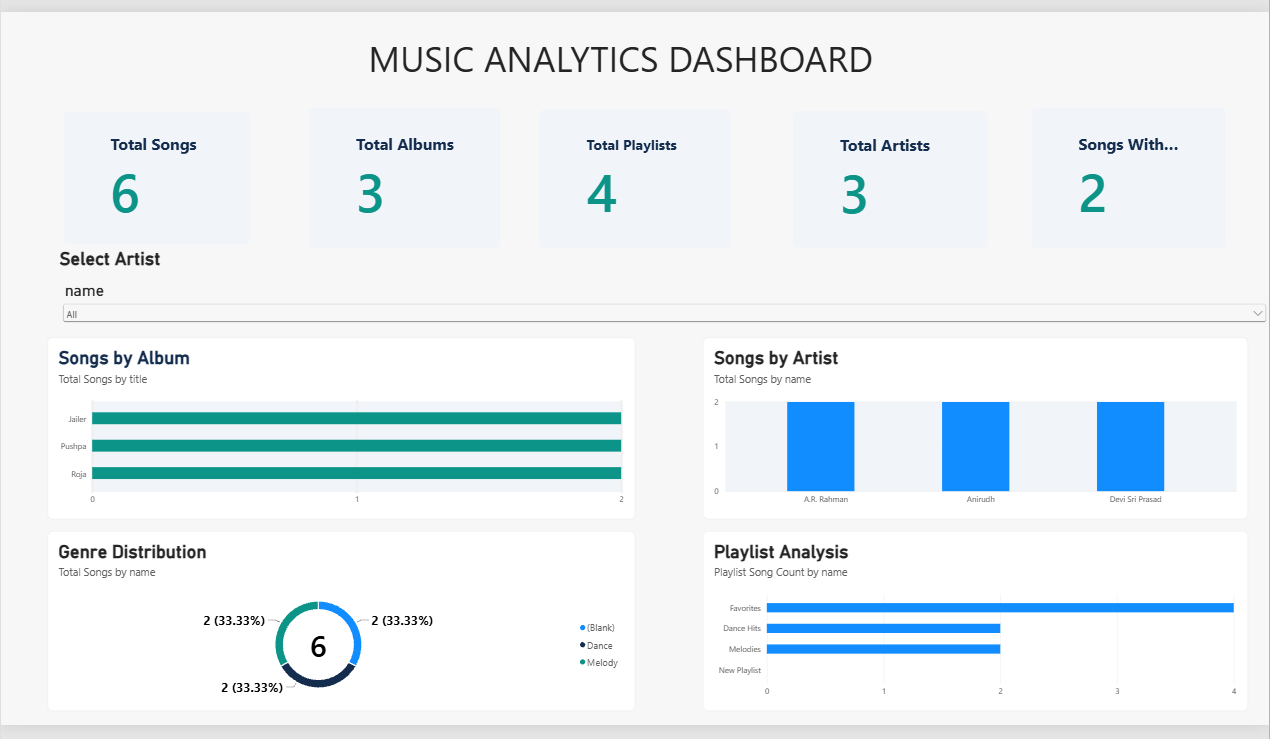

What the dashboard file says about the page in this screenshot:
{"tool":"powerbi","page":{"name":"Page 1","canvas":[1920,1080],"ordinal":0},"visuals":[{"type":"cardVisual","fields":{"Data":["public songs.Total Songs"]},"box":[87.5,145,295,212.5],"z":0},{"type":"cardVisual","fields":{"Data":["public albums.Total Artists"]},"box":[1200,150,295,207.5],"z":1000},{"type":"cardVisual","fields":{"Data":["public albums.Total Albums"]},"box":[465,145,290,212.5],"z":2000},{"type":"cardVisual","fields":{"Data":["public albums.Total Playlists"]},"box":[815,147.5,290,210],"z":3000},{"type":"cardVisual","fields":{"Data":["public albums.Songs Without Genre"]},"box":[1560,145,295,212.5],"z":4000},{"type":"clusteredBarChart","title":"Songs by Album","fields":{"Category":["public albums.title"],"Y":["public songs.Total Songs"]},"box":[70,492.5,890,275],"z":5000},{"type":"clusteredColumnChart","title":"Songs by Artist","fields":{"Category":["public artists.name"],"Y":["public songs.Total Songs"]},"box":[1062.5,492.5,825,275],"z":6000},{"type":"clusteredBarChart","title":"Playlist Analysis","fields":{"Category":["public playlists.name"],"Y":["public albums.Playlist Song Count"]},"box":[1062.5,785,825,272.5],"z":7000},{"type":"donutChart","title":"Genre Distribution","fields":{"Category":["public genres.name"],"Y":["public songs.Total Songs"]},"box":[70,785,890,272.5],"z":8000},{"type":"slicer","title":"Select Artist","fields":{"Values":["public artists.name"]},"box":[87.5,357.5,1832.5,135],"z":9000},{"type":"textbox","box":[337.5,35,1200,80],"z":9001}]}

Visuals, with their boxes on the page's 1920x1080 design canvas (x1, y1, x2, y2). These are canvas units, not pixel positions in the 1270x739 screenshot, which may show the page scaled, cropped or inside an application window:
cardVisual - public songs.Total Songs: 88, 145, 382, 358
cardVisual - public albums.Total Artists: 1200, 150, 1495, 358
cardVisual - public albums.Total Albums: 465, 145, 755, 358
cardVisual - public albums.Total Playlists: 815, 148, 1105, 358
cardVisual - public albums.Songs Without Genre: 1560, 145, 1855, 358
"Songs by Album" clusteredBarChart: 70, 492, 960, 768
"Songs by Artist" clusteredColumnChart: 1062, 492, 1888, 768
"Playlist Analysis" clusteredBarChart: 1062, 785, 1888, 1058
"Genre Distribution" donutChart: 70, 785, 960, 1058
"Select Artist" slicer: 88, 358, 1920, 492
textbox: 338, 35, 1538, 115
